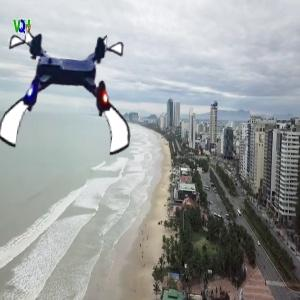drone: (2, 28, 138, 164)
